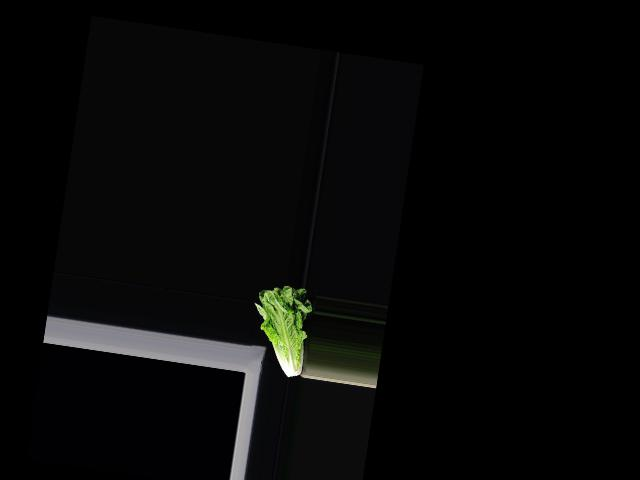lettuce: (245, 280, 315, 379)
